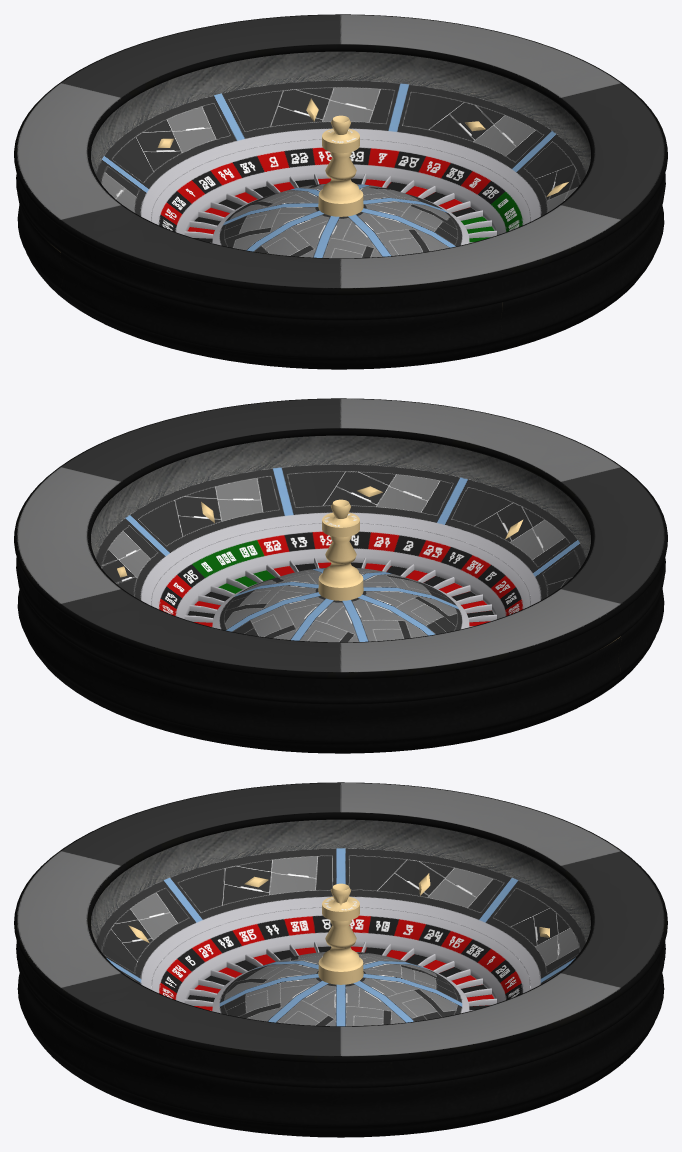
The picture shows the model from 3 angles, top to bottom: view 1: azimuth 30°, elevation 25°; view 2: azimuth 150°, elevation 25°; view 3: azimuth 270°, elevation 25°; orthographic projection.
Parts seen in each view (by area): view 1: geo1; view 2: geo1; view 3: geo1.
Boxes of the visible parts, x1,y1,x2,y2 form: geo1: (14, 14, 667, 369); geo1: (14, 398, 667, 753); geo1: (14, 782, 667, 1137).
Bounding box in the file's own units: 0.0145 × 0.00307 × 0.0145.
3 materials, 3 textured.
